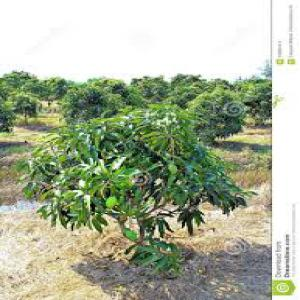Tree: (14, 101, 250, 276)
